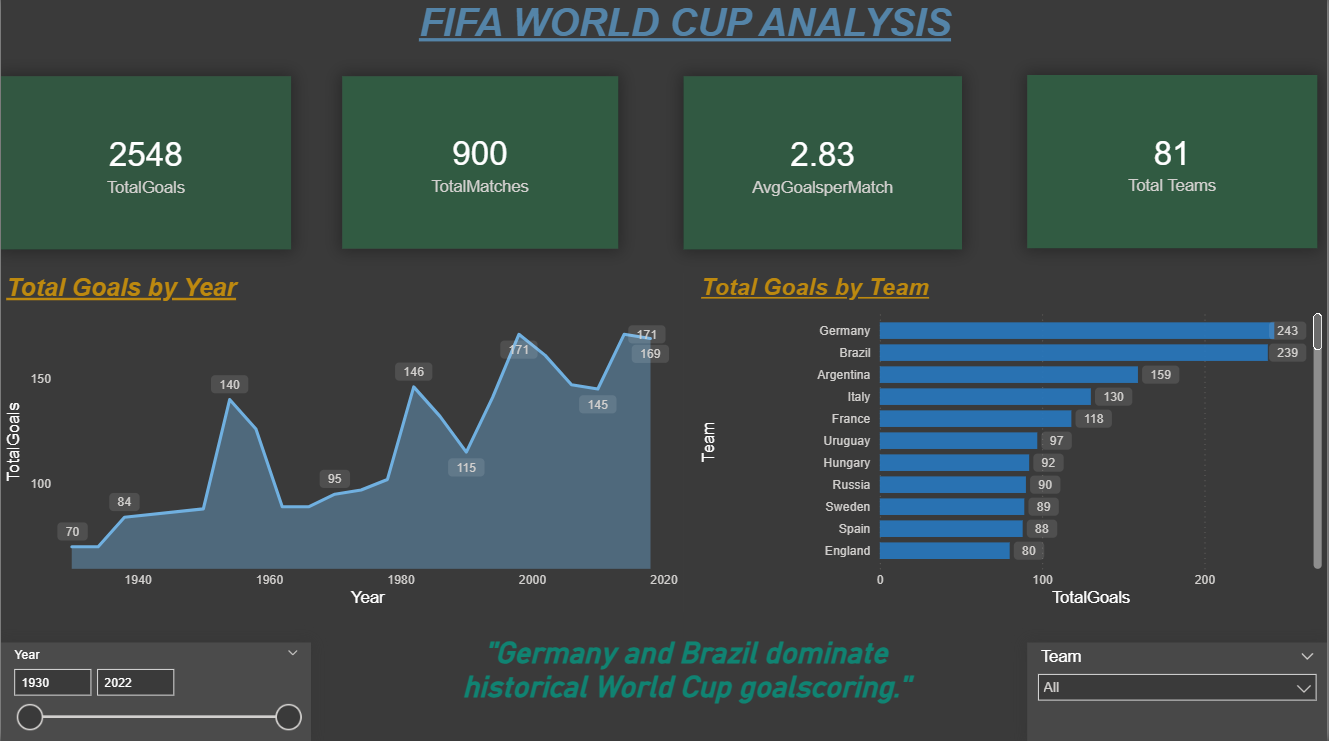

This screenshot's page, from the dashboard's own definition file:
{"tool":"powerbi","page":{"name":"World Cup Analysis","canvas":[1280,720],"ordinal":0},"visuals":[{"type":"card","fields":{"Values":["2022_world_cup_squads.Total Goals"]},"box":[0,78.2,279.9,167.4],"z":0},{"type":"card","fields":{"Values":["2022_world_cup_squads.TotalMatches"]},"box":[329.3,78.2,266.2,166],"z":1000},{"type":"card","fields":{"Values":["Teams.Total Teams"]},"box":[990.7,76.8,279.9,167.4],"z":2000},{"type":"lineChart","title":"Total Goals by Year","fields":{"Y":["2022_world_cup_squads.Total Goals"],"Category":["world_cups.Year"]},"box":[0,269,658.7,326.6],"z":3000},{"type":"card","fields":{"Values":["2022_world_cup_squads.AvgGoalsperMatch"]},"box":[658.7,78.2,269,167.4],"z":4000},{"type":"clusteredBarChart","title":"Total Goals by Team","fields":{"Category":["team.Team"],"Y":["2022_world_cup_squads.TotalGoals"]},"box":[671,269,609.3,326.6],"z":5000},{"type":"slicer","fields":{"Values":["world_cup_matches.Year"]},"box":[0,624.4,299.1,96.1],"z":6000},{"type":"slicer","fields":{"Values":["team.Team"]},"box":[990.7,624.4,289.5,96.1],"z":7000},{"type":"textbox","box":[430.9,613.4,461.1,107],"z":8000},{"type":"textbox","box":[0,0,1280.3,57.6],"z":9000}]}

Visuals, with their boxes in screenshot pixels (x1, y1, x2, y2), scaled from the page's 1280x720 canvas onto the 1329x741 screenshot:
card - 2022_world_cup_squads.Total Goals: (0, 80, 291, 253)
card - 2022_world_cup_squads.TotalMatches: (342, 80, 618, 251)
card - Teams.Total Teams: (1029, 79, 1319, 251)
"Total Goals by Year" lineChart: (0, 277, 684, 613)
card - 2022_world_cup_squads.AvgGoalsperMatch: (684, 80, 963, 253)
"Total Goals by Team" clusteredBarChart: (697, 277, 1328, 613)
slicer - world_cup_matches.Year: (0, 643, 311, 740)
slicer - team.Team: (1029, 643, 1328, 740)
textbox: (447, 631, 926, 740)
textbox: (0, 0, 1328, 59)
